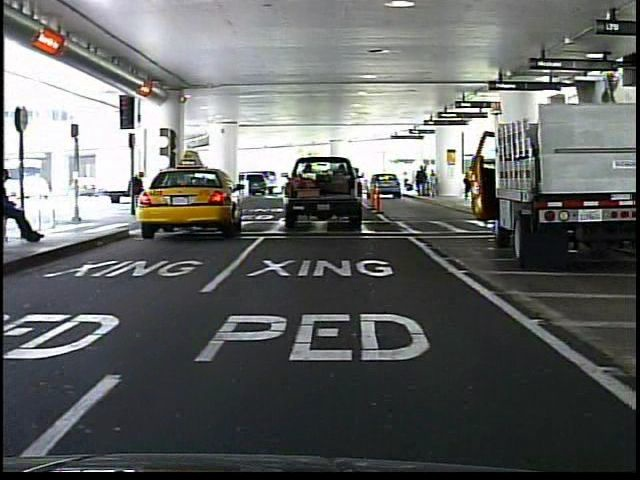person: (4, 165, 50, 245), (128, 165, 151, 221)
